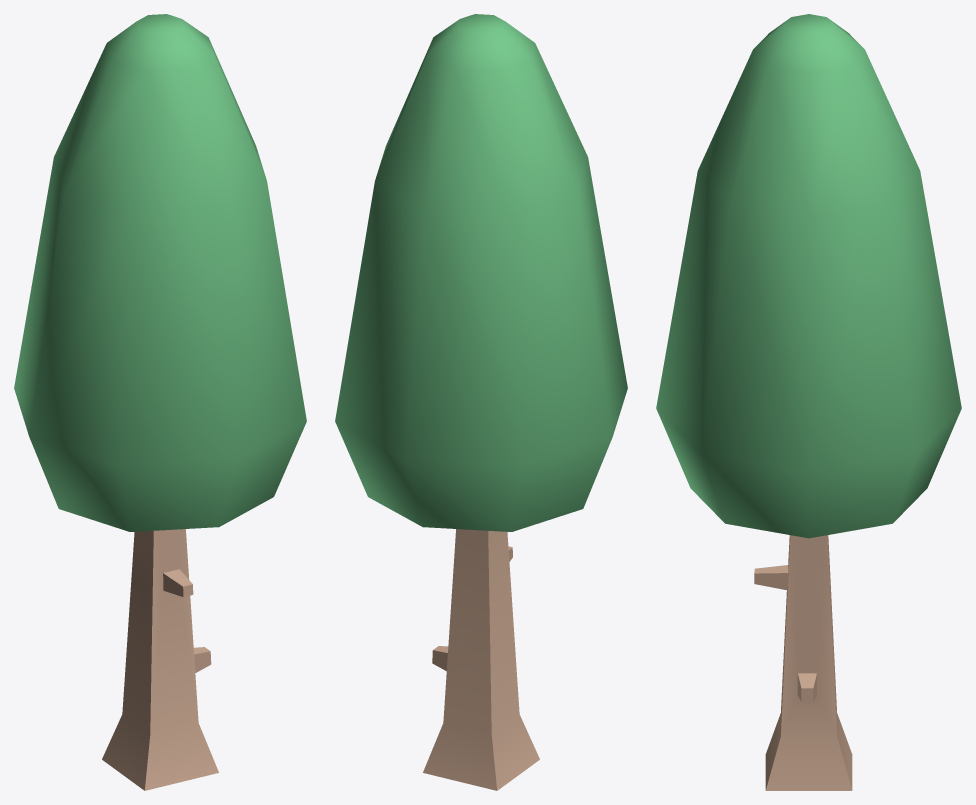
Rendered from tree6.fbx.
3 renders of one model, left to right at view 1: azimuth 30°, elevation 25°; view 2: azimuth 150°, elevation 25°; view 3: azimuth 270°, elevation 25°, orthographic.
Visible parts, largest first — view 1: treeHighRound; view 2: treeHighRound; view 3: treeHighRound.
Boxes of the visible parts, x1,y1,x2,y2 form: treeHighRound: [14, 14, 306, 790]; treeHighRound: [335, 14, 627, 790]; treeHighRound: [656, 14, 961, 790].
Bounding box in the file's own units: 413 × 1116 × 413.
